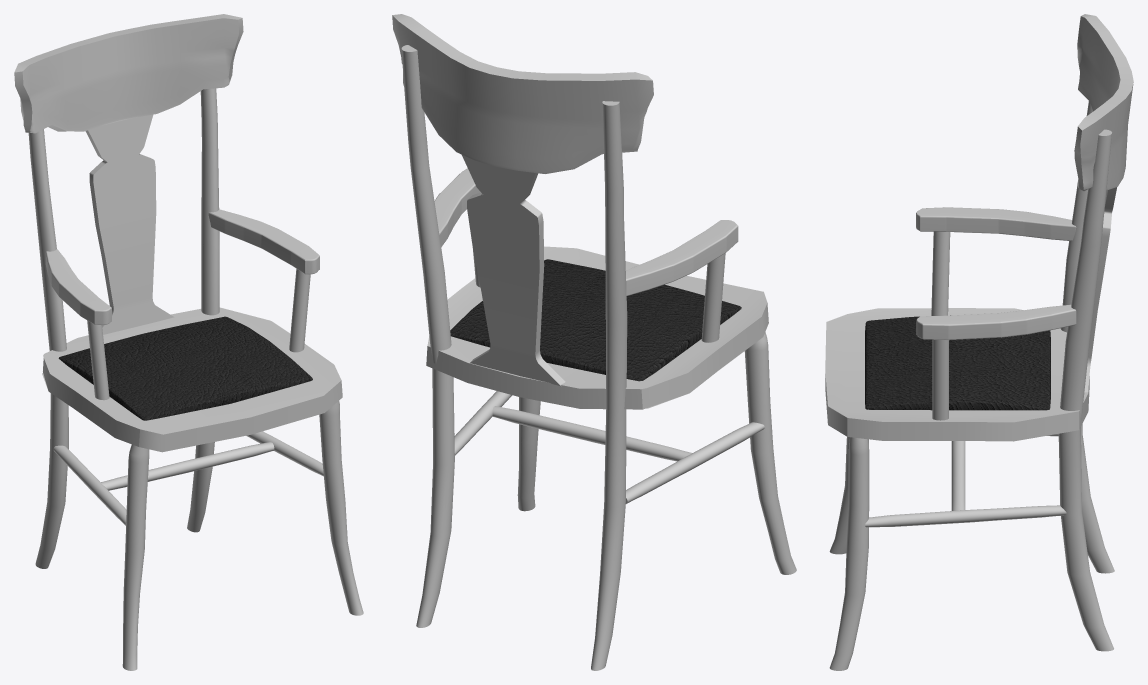
File: teacherChairTextured.fbx
The picture shows the model from 3 angles, left to right: view 1: azimuth 30°, elevation 25°; view 2: azimuth 150°, elevation 25°; view 3: azimuth 270°, elevation 25°; orthographic projection. The views are drawn at different scales.
Visible parts, largest first — view 1: chairExport_Parts_woodChair, cushion; view 2: chairExport_Parts_woodChair, cushion; view 3: chairExport_Parts_woodChair, cushion.
Part boxes in pixels (bbox=[...]): chairExport_Parts_woodChair: bbox=[14, 14, 363, 670]; cushion: bbox=[58, 316, 312, 420]; chairExport_Parts_woodChair: bbox=[392, 14, 796, 670]; cushion: bbox=[450, 259, 741, 381]; chairExport_Parts_woodChair: bbox=[825, 14, 1133, 670]; cushion: bbox=[865, 315, 1050, 410].
Size of the model in its own units: 2.07 by 4.26 by 2.2.
